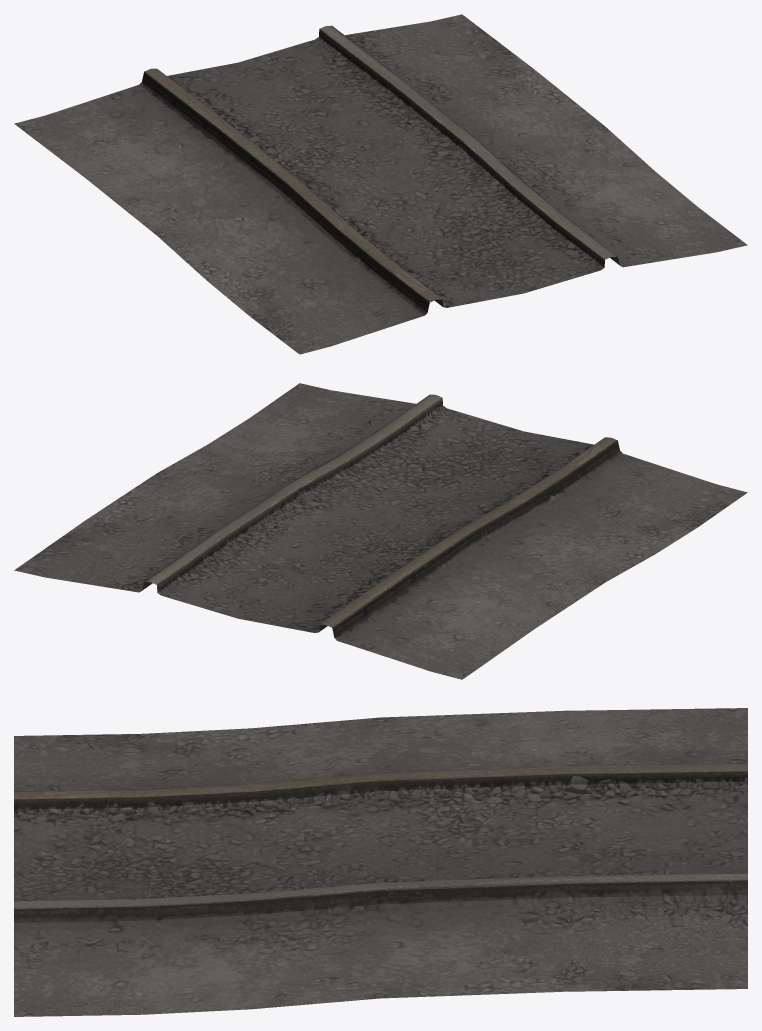
File: Rail Tunnel End.dae
3 views of the same model, one above another, from view 1: azimuth 30°, elevation 25°; view 2: azimuth 150°, elevation 25°; view 3: azimuth 270°, elevation 25° (orthographic). The views are drawn at different scales.
Parts seen in each view (by area): view 1: Rail_End; view 2: Rail_End; view 3: Rail_End.
Boxes of the visible parts, left/top/right/bottom form: Rail_End: left=14, top=14, right=747, bottom=354; Rail_End: left=14, top=383, right=747, bottom=679; Rail_End: left=14, top=708, right=747, bottom=1016.
Size of the model in its own units: 255 by 281 by 23.52.
